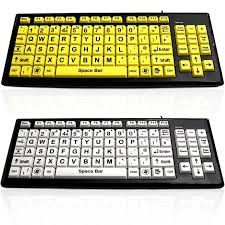keyboard: (2, 8, 221, 91), (4, 114, 222, 195)
